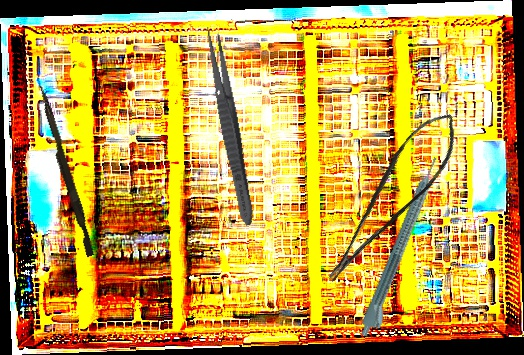Dressing Forceps: (199, 24, 260, 228)
Handpiece: (356, 154, 450, 342)
Micro Scissor: (299, 101, 477, 288)
Pusher: (32, 84, 99, 258)
